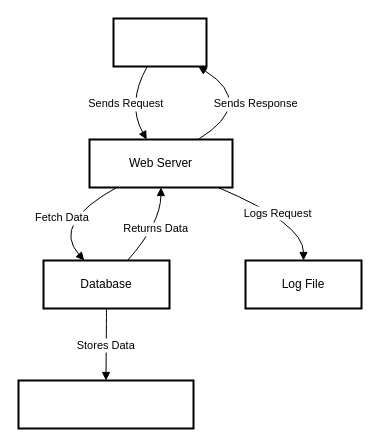
Some shapes in this 379 by 446 pixel diagram are drawn without their labels. The centre of each missing label's shape, as x and y in pixels:
"Data Warehouse" goes at point 105,404.
"User" goes at point 159,42.
